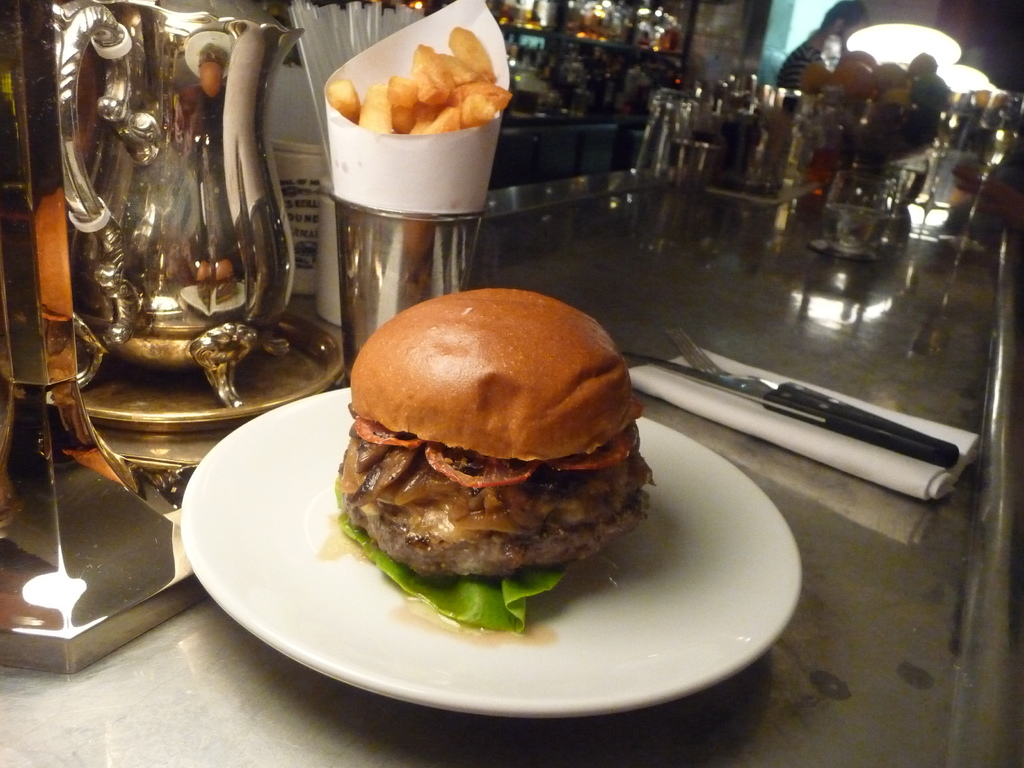Hamburger: (337, 289, 654, 633)
